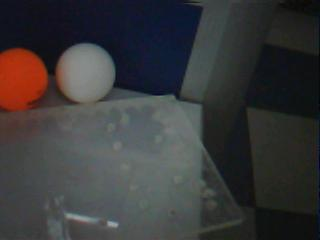oball: (0, 49, 49, 111)
